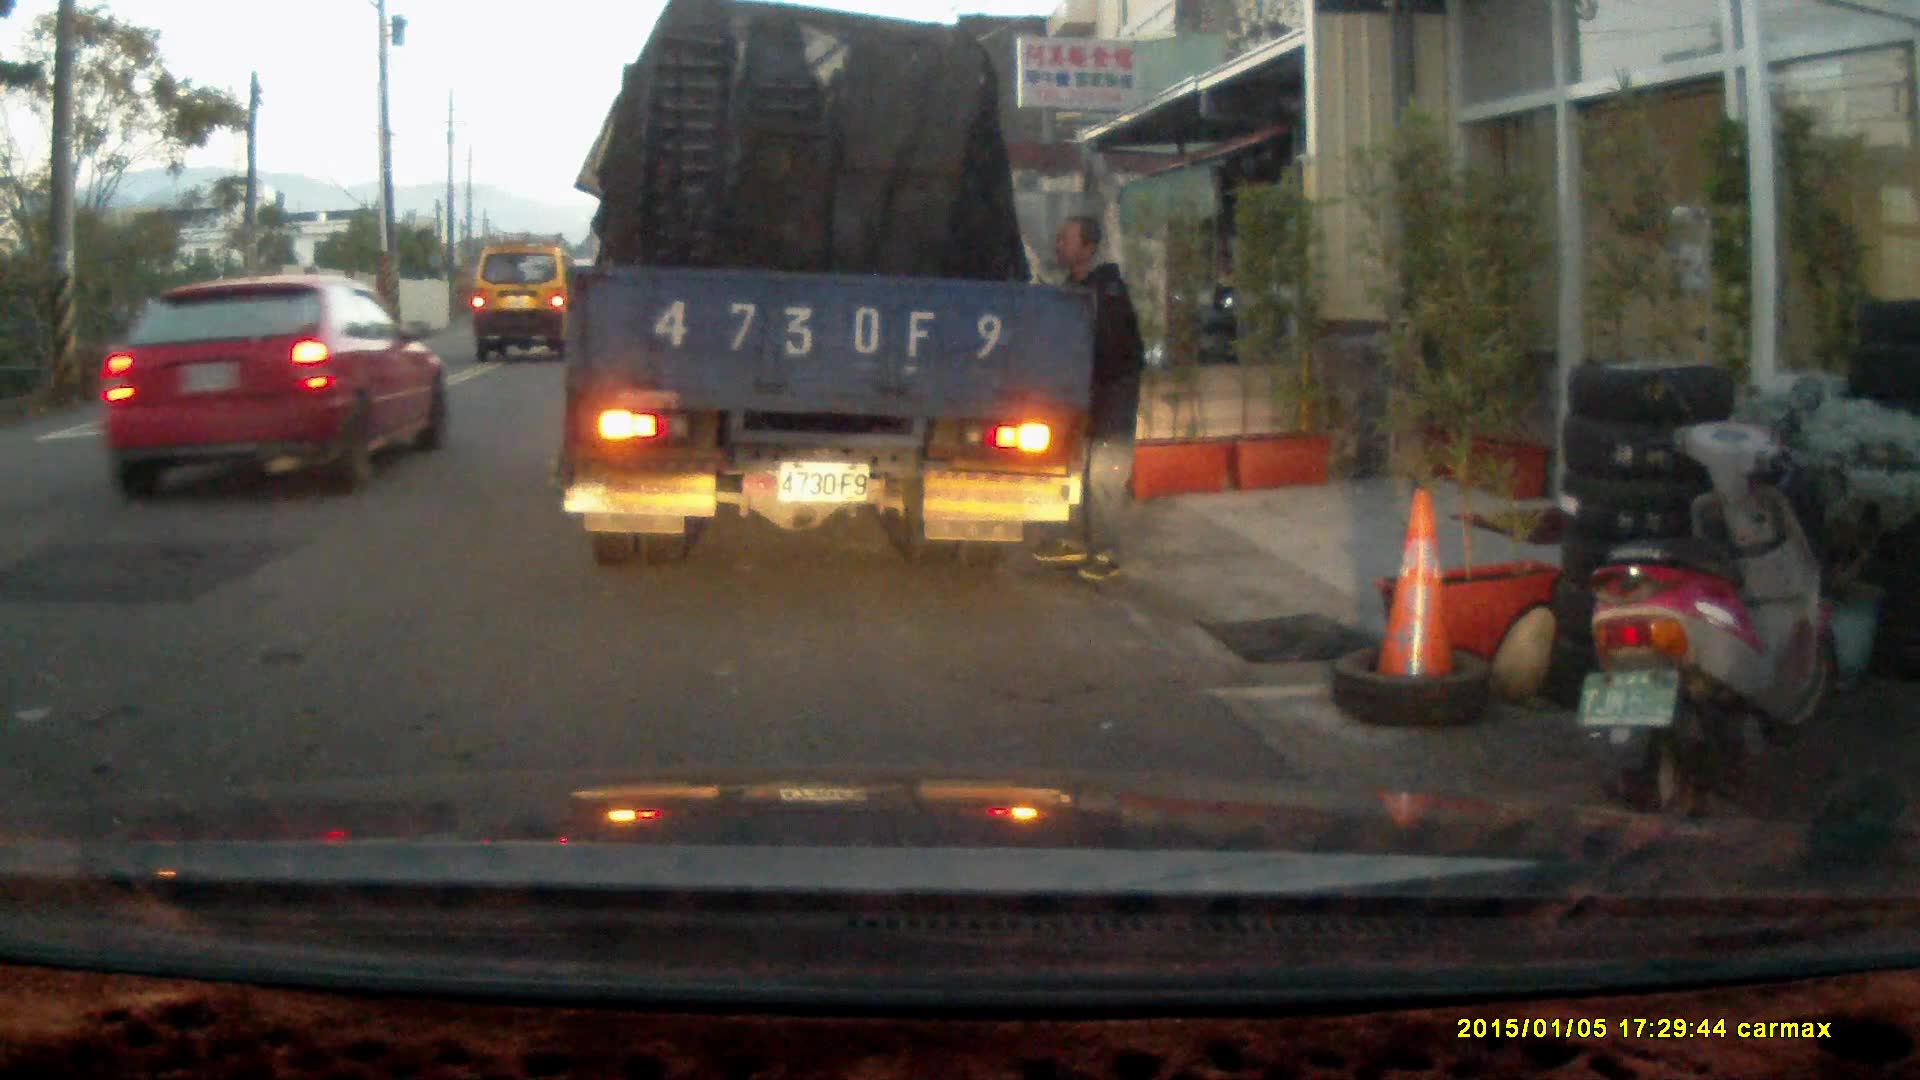pedestrian: (1032, 213, 1144, 581)
vehicle: (565, 23, 1097, 571), (99, 268, 456, 506), (469, 242, 582, 355)
